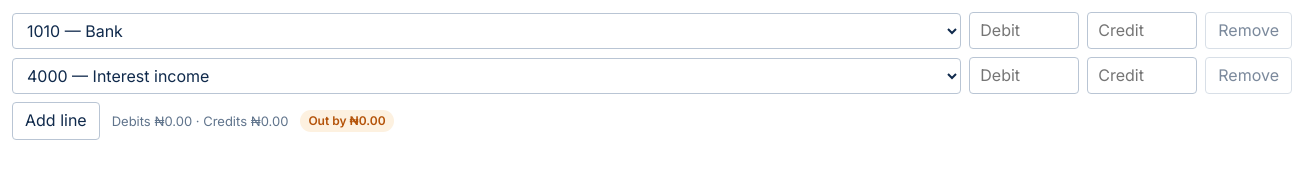
Scenario: JournalLinesEditor › reports the entry as balanced once both sides match
Check: the text "Out by ₦0.00" is shown, box [300,110,394,132]
In the field named "Line 1 debit": point(1024, 31) [969,12,1079,49], type "100"
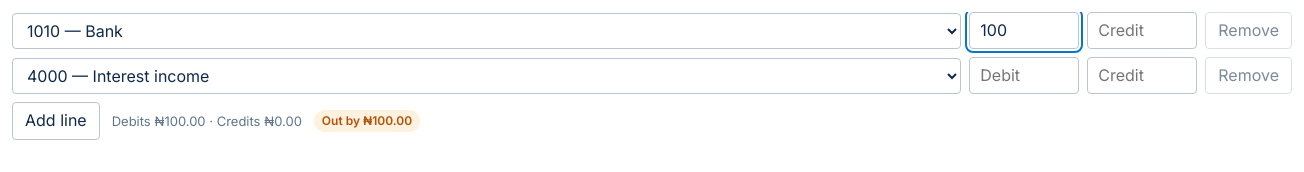
In the field named "Line 2 credit": point(1142, 76) [1087,57,1197,94], type "100"
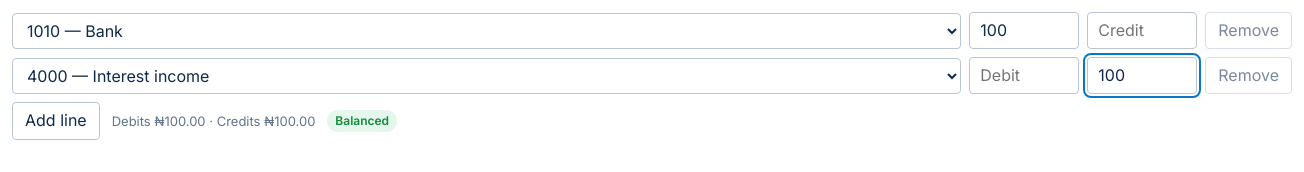
Check: the text "Balanced" is shown, box [327,110,397,132]
